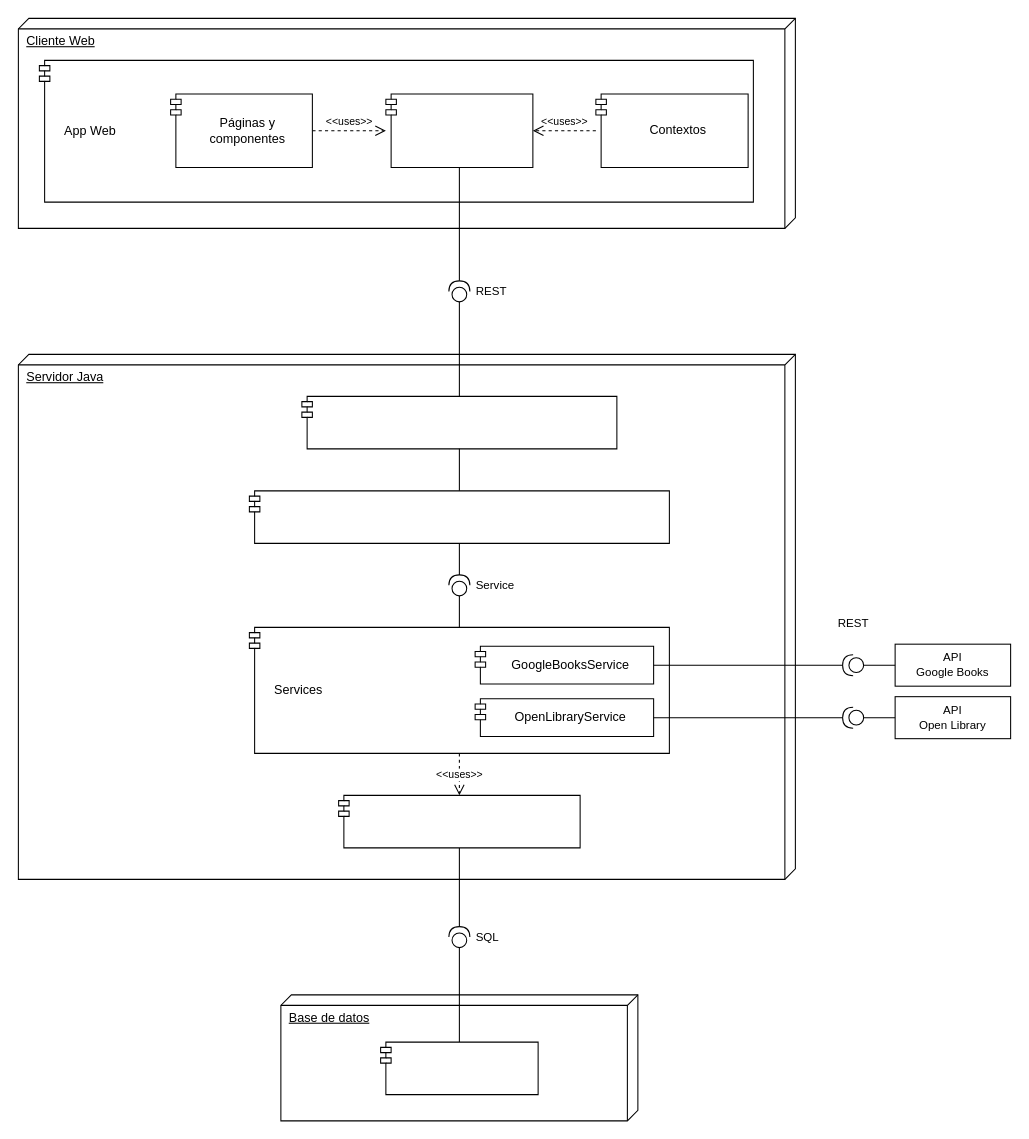
This 1029x1139 diagram has some shape labels left out. The centre of each missing label's shape, as x and y in pixels:
Cliente API: the point at 459,130
Controllers: the point at 458,516
Repositories: the point at 459,821
Seguridad: the point at 459,422
SGBD: the point at 459,1068
